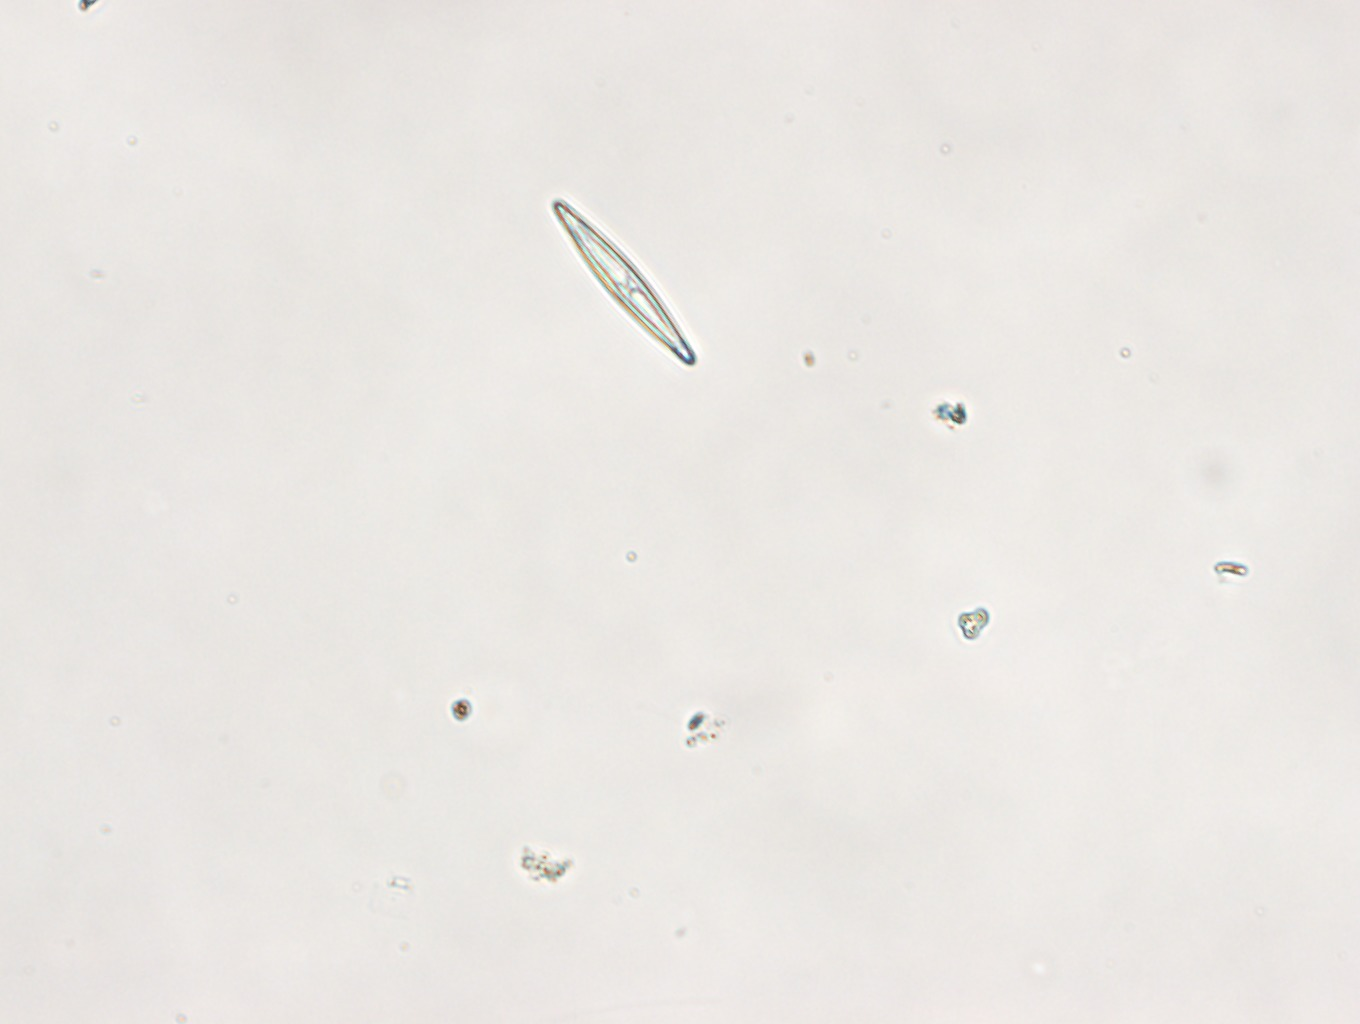navicula: (548, 200, 699, 368)
